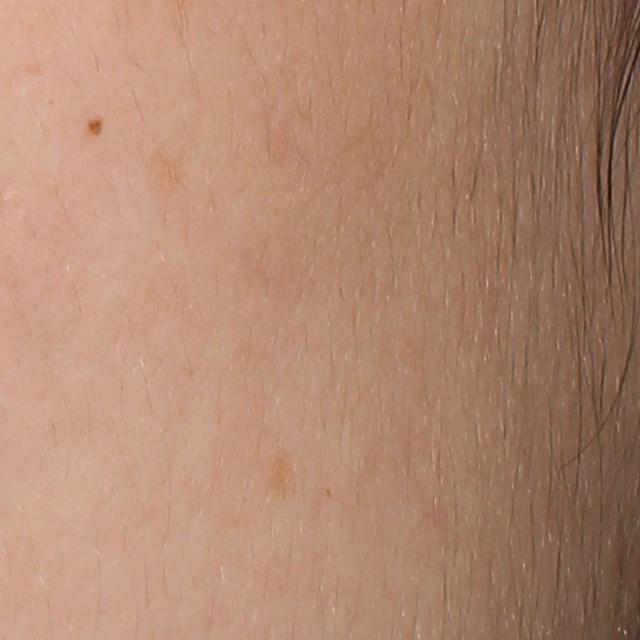nevus: (89, 118, 104, 137)
